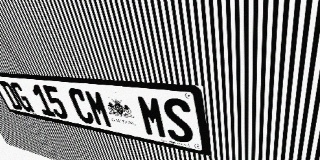1: (29, 84, 56, 117)
5: (42, 85, 70, 120)
C: (66, 88, 96, 125)
D: (0, 81, 24, 111)
G: (9, 82, 35, 113)
M: (136, 94, 169, 140), (83, 89, 114, 129)
S: (161, 97, 195, 145)
